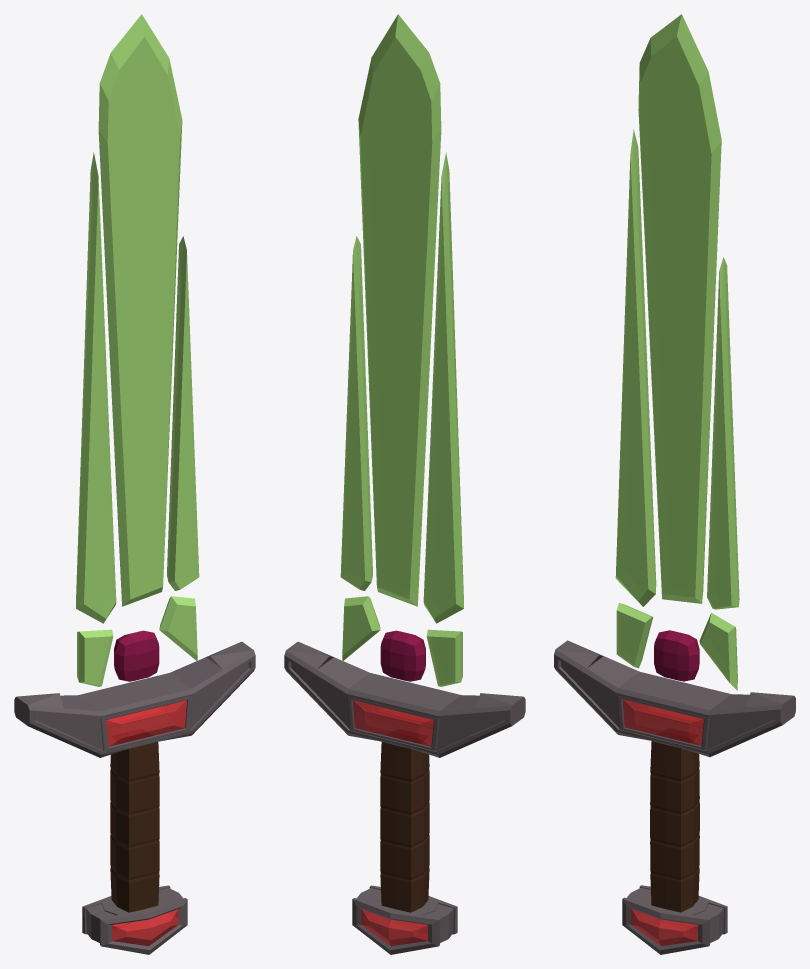
The model's file is sword 1.fbx.
The picture shows the model from 3 angles, left to right: view 1: azimuth 30°, elevation 25°; view 2: azimuth 150°, elevation 25°; view 3: azimuth 330°, elevation 25°; orthographic projection.
Visible parts, largest first — view 1: Cube.099; view 2: Cube.099; view 3: Cube.099.
Boxes of the visible parts, bbox=[...] form: Cube.099: bbox=[14, 14, 255, 954]; Cube.099: bbox=[284, 14, 525, 954]; Cube.099: bbox=[554, 14, 795, 954].
Size of the model in its own units: 35 by 137 by 8.66.
